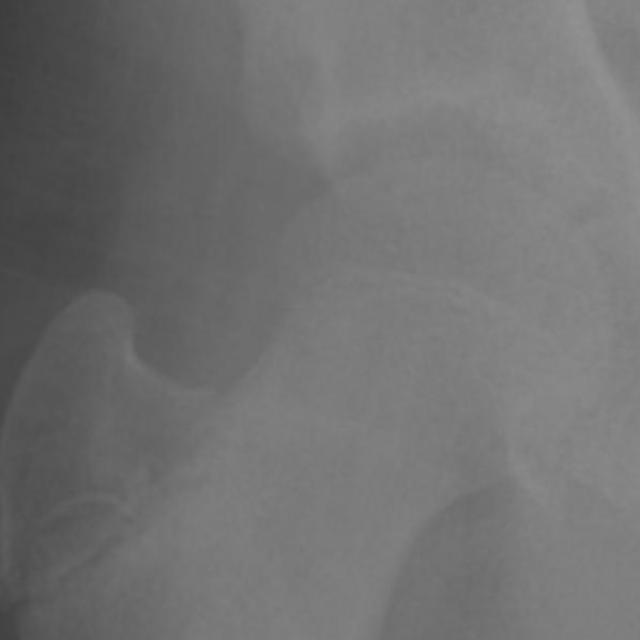Fitted_femural_head: (355, 156, 432, 355)
